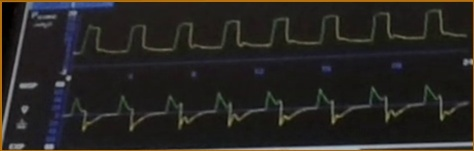Premature_cycling Flow: (66, 83, 467, 135)
